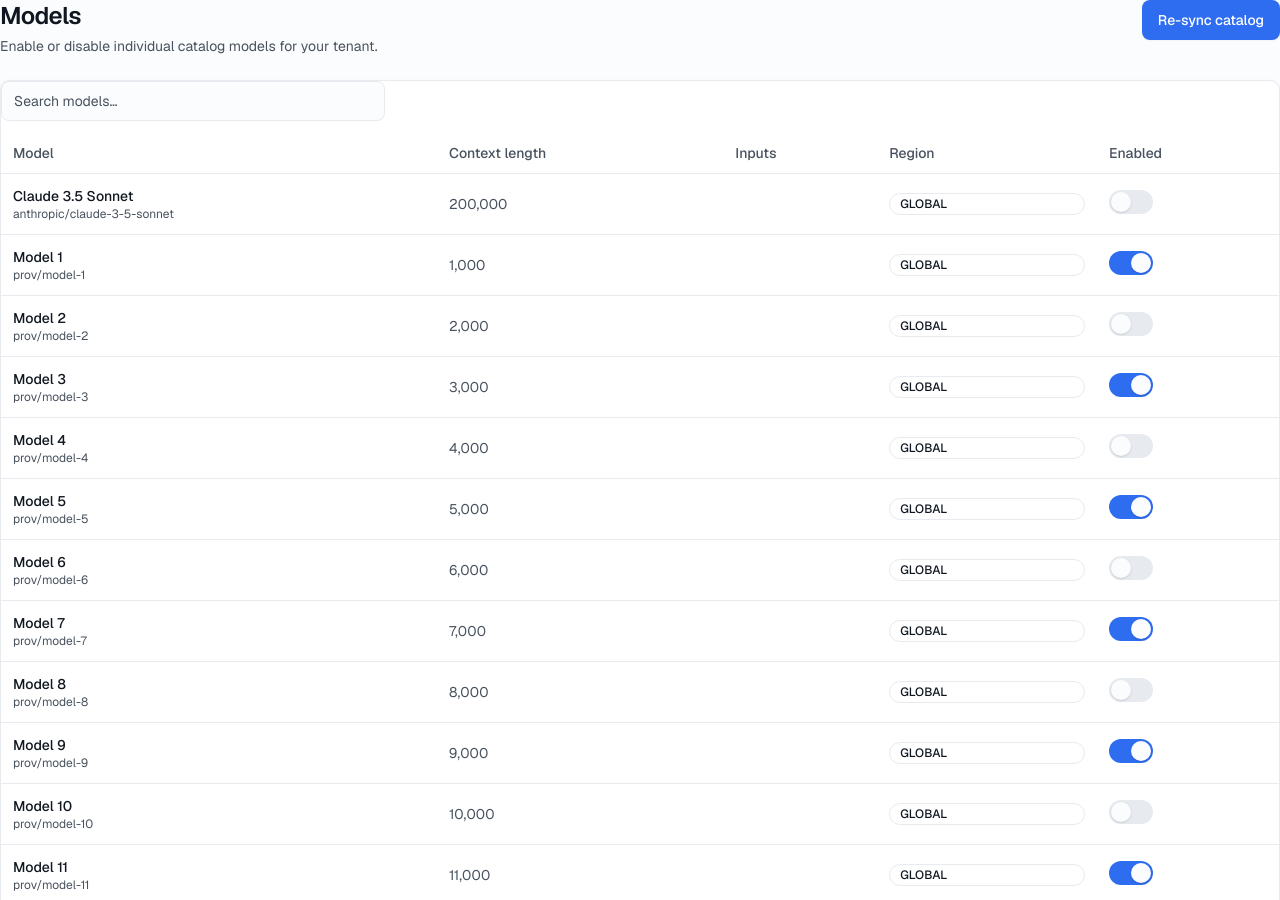
ModelsPage — fuzzy search › test_no_match_empty: zero matches shows Empty, search box retained, no rows
Expected: the text "Claude 3.5 Sonnet" is shown, x1=13 y1=186 x2=134 y2=204
Type "zzzznotamodel" into the field labelled "Search models…". click: (193, 101)
box: x1=1 y1=81 x2=385 y2=121
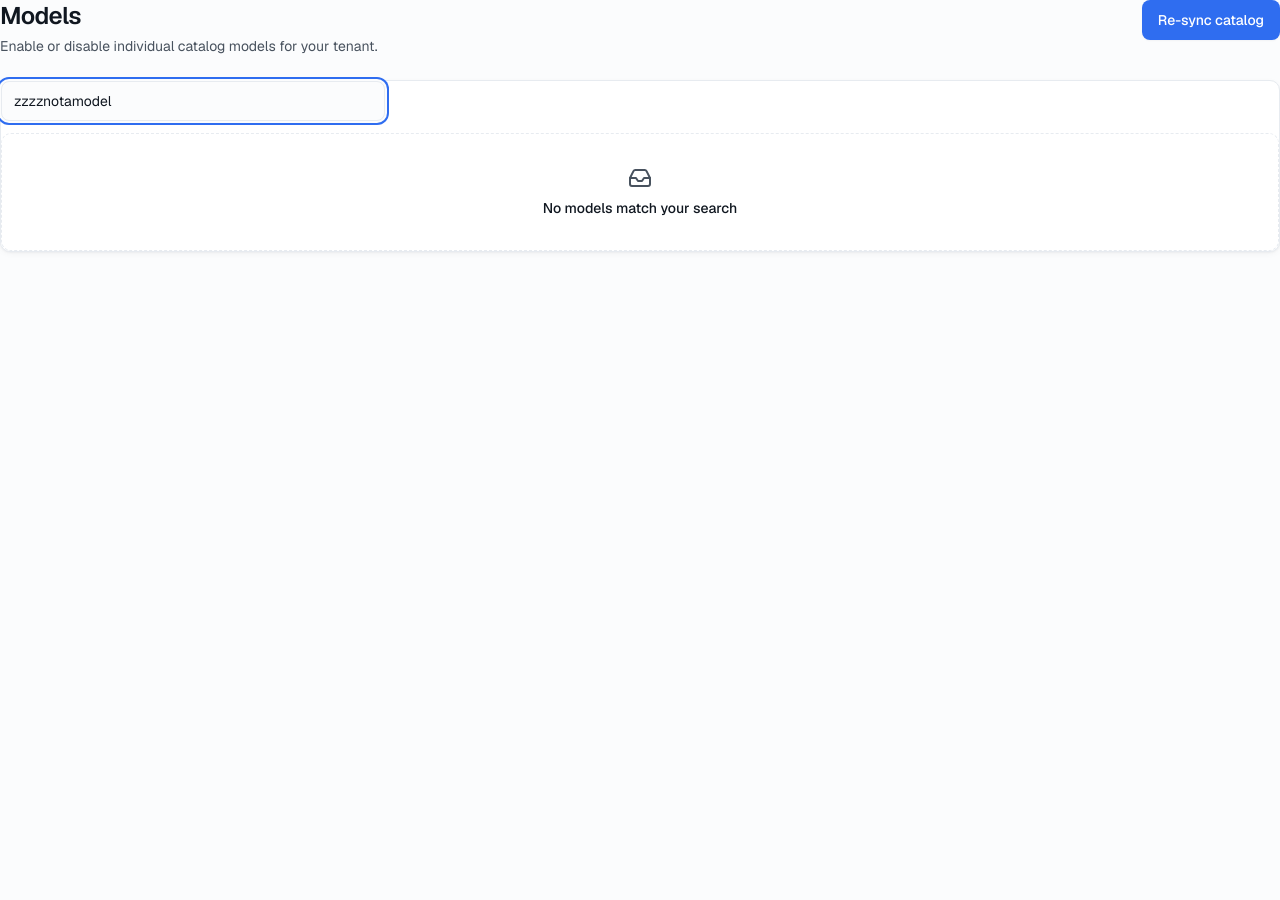
Expected: the text "No models match your search" is shown, x1=543 y1=198 x2=737 y2=218
